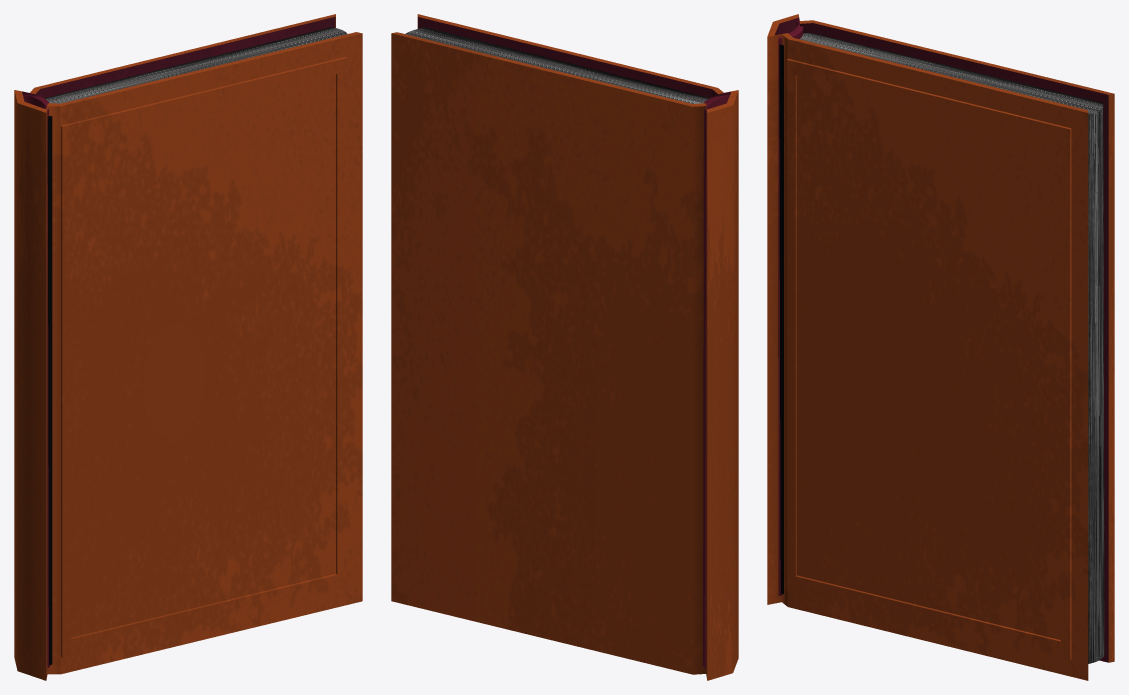
Rendered from book07.fbx.
The picture shows the model from 3 angles, left to right: view 1: azimuth 30°, elevation 25°; view 2: azimuth 150°, elevation 25°; view 3: azimuth 330°, elevation 25°; orthographic projection.
Parts seen in each view (by area): view 1: pCube12, pages6, spine5; view 2: pCube12, pages6, spine5; view 3: pCube12, pages6, spine5.
Boxes of the visible parts, <box> form: pCube12: <box>14,14,362,680</box>; pages6: <box>44,27,347,665</box>; spine5: <box>23,94,49,668</box>; pCube12: <box>391,14,738,680</box>; pages6: <box>405,27,709,103</box>; spine5: <box>703,95,729,668</box>; pCube12: <box>767,14,1114,680</box>; pages6: <box>779,32,1104,663</box>; spine5: <box>778,21,803,595</box>.
Bounding box in the file's own units: 0.6328 × 1.04 × 0.1051.
